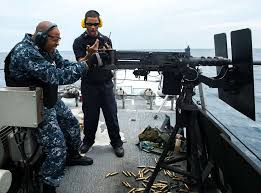gun: (85, 44, 260, 105)
